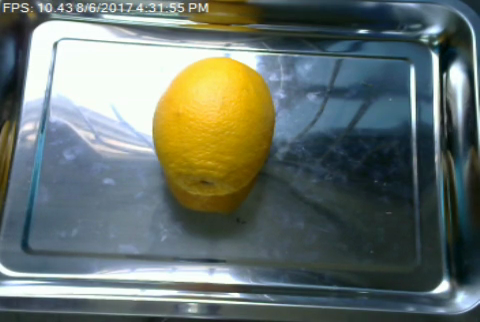Orange: (151, 56, 276, 195)
